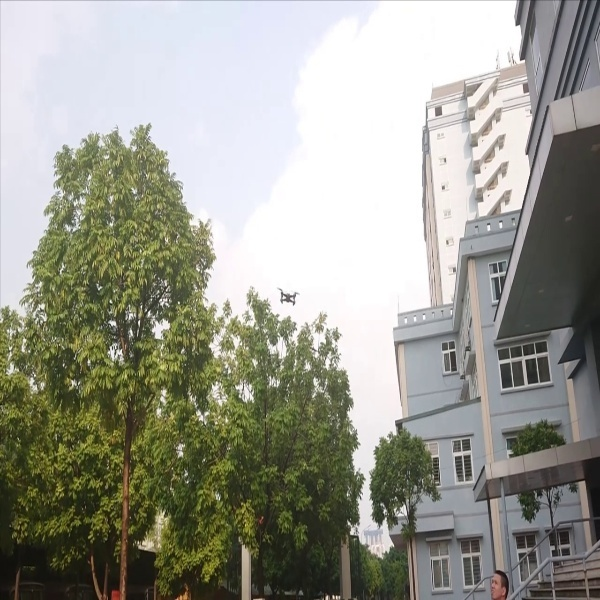drone: (274, 284, 302, 312)
